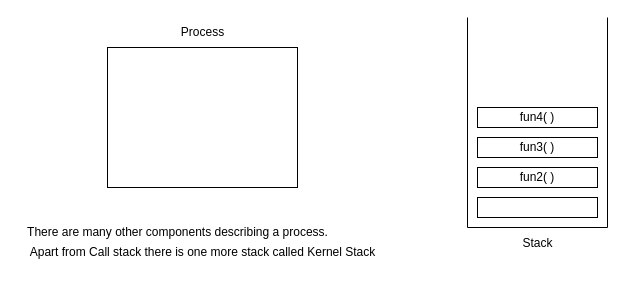
The diagram is 626 pixels wide and 288 high, and some of its shapes have lost their labels. Here are the shapes that lost their labels. From the top down, the box of each, then its label:
(106, 46, 298, 188): Process ID Data Segment Text Segment Call Stack Heap
(476, 196, 598, 218): fun1( )
